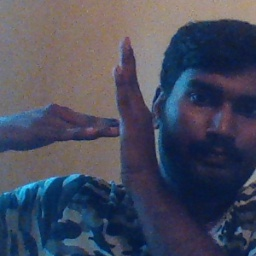Z: (48, 34, 163, 190)
